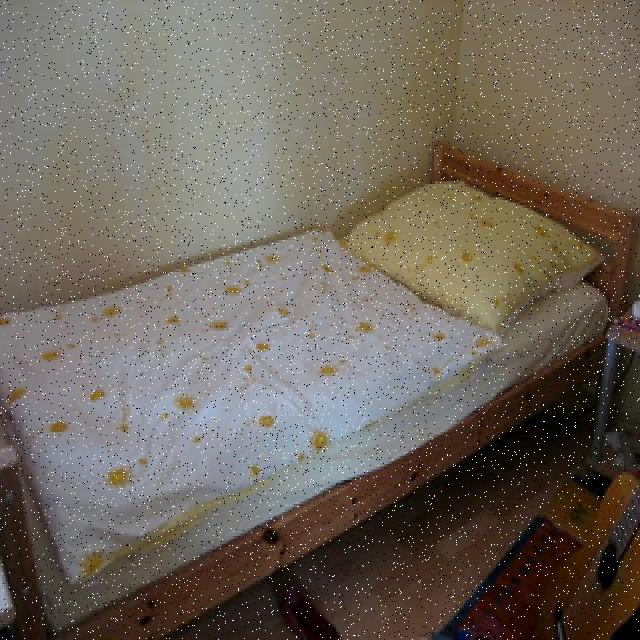bed: (0, 134, 630, 633)
